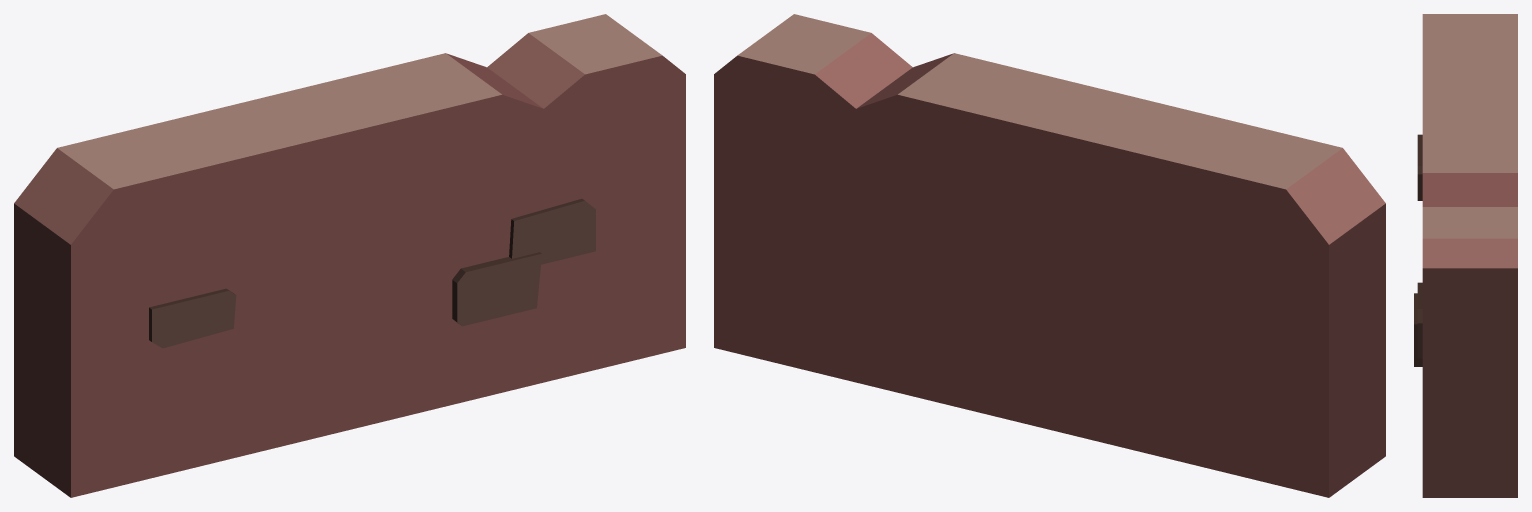
Rendered from TB_D_Bd_Fence_Dirt_Red_C.FBX.
3 views of the same model, side by side, from view 1: azimuth 30°, elevation 25°; view 2: azimuth 150°, elevation 25°; view 3: azimuth 270°, elevation 25° (orthographic). The views are drawn at different scales.
Visible parts, largest first — view 1: TB_D_Bd_Fence_Dirt_Red_C; view 2: TB_D_Bd_Fence_Dirt_Red_C; view 3: TB_D_Bd_Fence_Dirt_Red_C.
Boxes of the visible parts, box(x1,y1,x2,y2) form: TB_D_Bd_Fence_Dirt_Red_C: box(14, 14, 685, 497); TB_D_Bd_Fence_Dirt_Red_C: box(714, 14, 1385, 497); TB_D_Bd_Fence_Dirt_Red_C: box(1414, 14, 1517, 497).
Size of the model in its own units: 2.5 by 1.16 by 0.4358.
